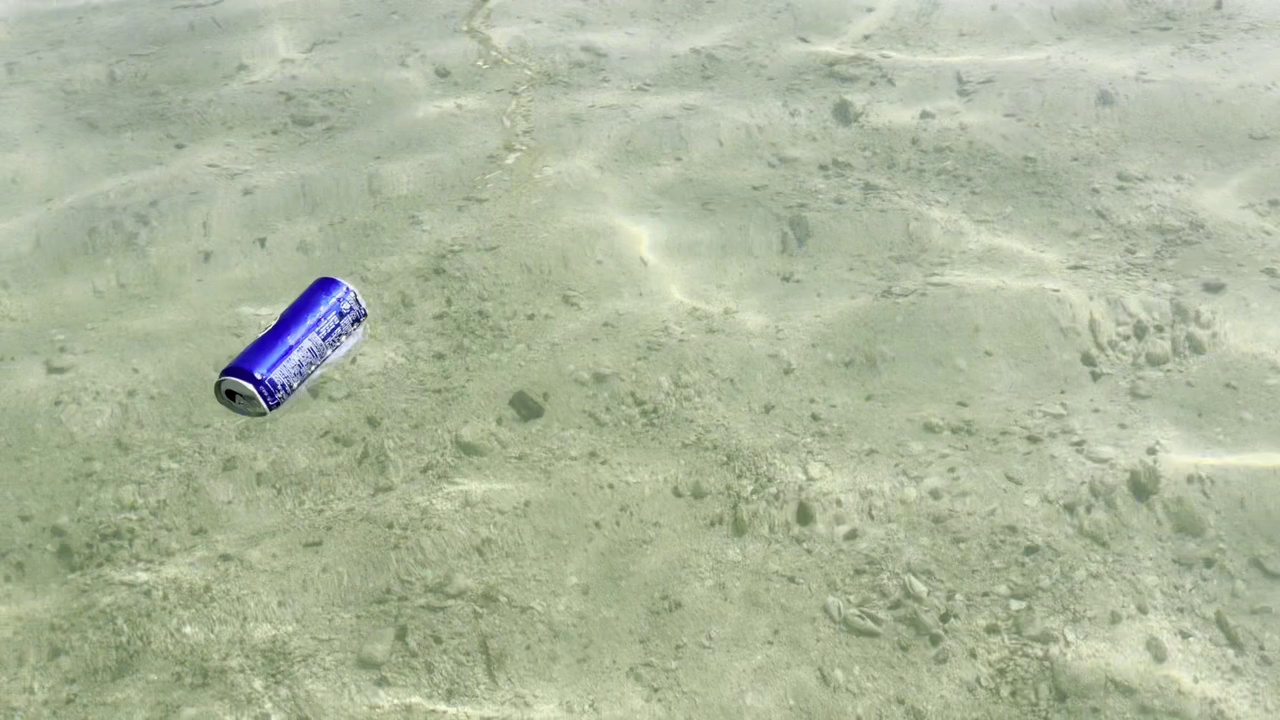debris: (206, 268, 368, 431)
